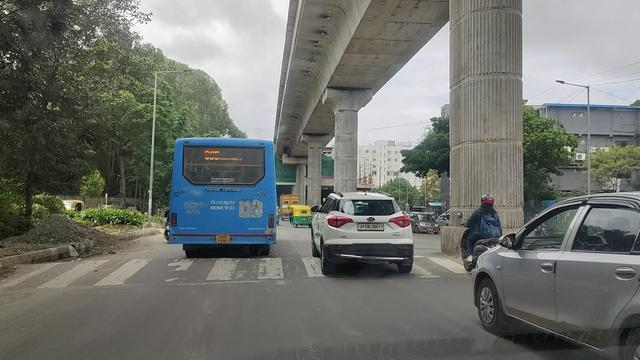LMV: (172, 138, 275, 250), (313, 189, 413, 275)
SpeedBump: (32, 252, 317, 286)
